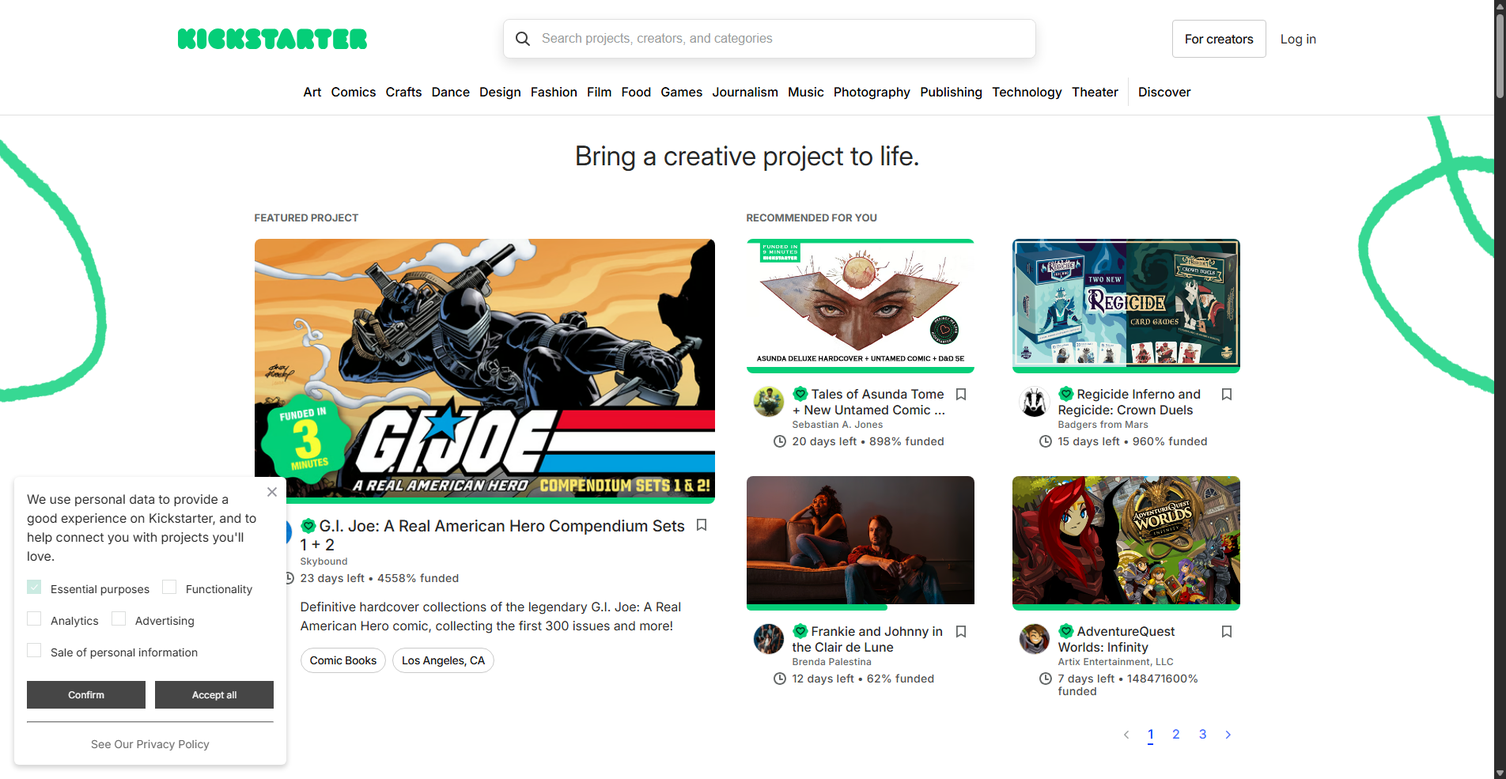button: (499, 202, 593, 244), (1172, 20, 1266, 58), (178, 180, 263, 221), (27, 681, 146, 709), (155, 681, 274, 709), (178, 234, 319, 253), (178, 202, 318, 221), (178, 256, 315, 275), (338, 256, 475, 275), (178, 141, 289, 164), (499, 234, 633, 253), (338, 180, 471, 199), (178, 180, 311, 199), (338, 207, 467, 226), (499, 207, 627, 226), (178, 288, 304, 307), (178, 288, 302, 307), (338, 234, 462, 253), (178, 141, 279, 164), (338, 234, 460, 253), (178, 234, 300, 253), (338, 234, 458, 253), (178, 141, 274, 164), (338, 261, 453, 280), (338, 207, 452, 226), (178, 180, 292, 199), (338, 207, 451, 226), (178, 234, 291, 253), (499, 180, 612, 199), (178, 261, 290, 280), (178, 207, 289, 226), (499, 207, 610, 226), (499, 180, 608, 199), (178, 141, 268, 164), (178, 207, 286, 226), (178, 234, 284, 253), (178, 234, 283, 253), (178, 180, 282, 199), (338, 315, 441, 334), (499, 261, 601, 280), (338, 180, 440, 199), (178, 261, 278, 280), (338, 288, 438, 307), (338, 261, 437, 280), (499, 180, 597, 199), (178, 176, 276, 195), (178, 207, 275, 226), (178, 315, 274, 334), (178, 207, 274, 226), (338, 180, 433, 199), (178, 207, 270, 226), (499, 288, 591, 307), (178, 180, 269, 199), (338, 261, 429, 280), (178, 180, 268, 199), (499, 234, 589, 253), (499, 261, 589, 280), (178, 288, 266, 307), (178, 180, 266, 199), (499, 180, 587, 199), (178, 207, 266, 226), (499, 207, 586, 226), (499, 180, 585, 199), (178, 207, 264, 226), (178, 261, 263, 280), (178, 229, 262, 248), (338, 207, 422, 226), (499, 180, 582, 199), (178, 141, 246, 164), (178, 180, 260, 199), (338, 315, 419, 334), (178, 141, 244, 164), (499, 288, 577, 307), (499, 261, 577, 280), (178, 261, 255, 280), (338, 180, 415, 199), (338, 288, 415, 307), (338, 207, 415, 226), (499, 207, 575, 226), (178, 229, 254, 248), (178, 261, 253, 280), (178, 207, 252, 226), (499, 234, 573, 253), (178, 141, 239, 164), (178, 234, 251, 253), (178, 180, 251, 199), (178, 141, 238, 164), (338, 261, 410, 280), (178, 234, 250, 253), (338, 234, 410, 253), (338, 288, 409, 307), (178, 180, 248, 199), (338, 207, 408, 226), (499, 234, 568, 253), (338, 342, 407, 361), (338, 202, 407, 221), (178, 141, 234, 164), (499, 180, 565, 199), (338, 207, 403, 226), (338, 180, 403, 199), (834, 84, 911, 100), (499, 234, 563, 253), (178, 141, 230, 164), (178, 234, 240, 253), (178, 288, 240, 307), (178, 315, 240, 334), (338, 207, 400, 226), (178, 180, 240, 199), (338, 207, 398, 226), (178, 180, 238, 199), (338, 180, 398, 199), (499, 261, 559, 280), (178, 207, 237, 226), (992, 84, 1062, 100), (338, 234, 396, 253), (338, 180, 396, 199), (338, 207, 396, 226), (178, 180, 236, 199), (338, 207, 395, 226), (338, 261, 395, 280), (178, 207, 235, 226), (499, 180, 556, 199), (499, 207, 555, 226), (712, 84, 778, 100), (338, 180, 393, 199), (499, 234, 554, 253), (338, 234, 392, 253), (920, 84, 982, 100), (178, 141, 221, 164), (338, 288, 390, 307), (338, 176, 390, 195), (338, 207, 389, 226), (338, 180, 388, 199), (499, 207, 548, 226), (178, 288, 226, 307), (178, 342, 226, 361), (338, 234, 386, 253), (499, 207, 547, 226), (499, 180, 547, 199), (178, 180, 225, 199), (178, 256, 225, 275), (499, 261, 546, 280), (499, 207, 546, 226), (338, 234, 384, 253), (1138, 84, 1191, 100), (499, 176, 543, 195), (178, 141, 214, 164), (178, 180, 221, 199), (178, 207, 221, 226), (338, 207, 381, 226), (499, 180, 541, 199), (338, 288, 380, 307), (338, 180, 379, 199), (499, 288, 539, 307), (338, 229, 378, 248), (499, 207, 538, 226), (531, 84, 577, 100), (1072, 84, 1118, 100), (178, 207, 216, 226), (331, 84, 376, 100), (499, 207, 536, 226), (499, 261, 536, 280), (178, 261, 214, 280), (338, 261, 374, 280), (479, 84, 521, 100), (661, 84, 703, 100), (338, 234, 373, 253), (338, 180, 373, 199), (338, 207, 373, 226), (499, 180, 532, 199), (338, 234, 371, 253), (499, 288, 532, 307), (431, 84, 470, 100), (178, 141, 204, 164), (499, 234, 530, 253), (386, 84, 422, 100), (788, 84, 824, 100), (499, 180, 528, 199), (178, 234, 204, 253), (621, 84, 651, 100), (1216, 725, 1240, 744), (1115, 725, 1138, 744), (587, 84, 612, 100), (303, 84, 321, 100), (695, 519, 708, 534), (954, 388, 967, 403), (1220, 388, 1233, 403), (954, 625, 967, 640), (1220, 625, 1233, 640), (1172, 724, 1180, 745), (1199, 724, 1207, 745), (267, 486, 277, 499), (1148, 724, 1153, 745)
checkbox: (165, 582, 176, 592), (114, 614, 125, 624), (30, 645, 40, 656), (30, 582, 40, 592), (30, 614, 40, 624)
icon: (300, 518, 316, 534), (792, 386, 808, 402), (1058, 386, 1074, 402), (792, 623, 808, 639), (1058, 623, 1074, 639), (954, 388, 967, 401), (1220, 388, 1233, 401), (954, 625, 967, 638), (1220, 625, 1233, 638), (695, 519, 708, 531)
input: (532, 20, 1035, 58)
label: (51, 643, 198, 662), (51, 580, 150, 599), (186, 580, 253, 599), (135, 611, 194, 630), (51, 611, 99, 630), (27, 611, 51, 626), (111, 611, 135, 626), (27, 580, 51, 594), (162, 580, 186, 594), (27, 643, 51, 657)
link: (254, 239, 715, 498), (746, 239, 974, 367), (1012, 239, 1240, 367), (746, 476, 974, 604), (1012, 476, 1240, 604), (300, 517, 685, 555), (1002, 199, 1317, 225), (1002, 275, 1317, 301), (1002, 174, 1317, 199), (1002, 225, 1317, 250), (1002, 250, 1317, 275), (792, 386, 945, 433), (178, 179, 329, 223), (499, 201, 650, 245), (708, 199, 944, 225), (708, 275, 944, 301), (708, 174, 944, 199), (708, 225, 944, 250), (708, 250, 944, 275), (708, 301, 944, 326), (792, 623, 943, 655), (1058, 386, 1201, 418), (829, 68, 915, 115), (178, 28, 367, 49), (987, 68, 1067, 115), (1058, 623, 1175, 655), (707, 68, 783, 115), (178, 259, 329, 282), (338, 259, 489, 282), (499, 259, 650, 282), (915, 68, 987, 115), (178, 179, 329, 201), (178, 206, 329, 228), (178, 233, 329, 255), (178, 286, 329, 308), (338, 179, 489, 201), (338, 206, 489, 228), (338, 233, 489, 255), (338, 286, 489, 308), (499, 179, 650, 201), (499, 206, 650, 228), (499, 233, 650, 255), (178, 313, 329, 335), (178, 340, 329, 362), (338, 313, 489, 335), (338, 340, 489, 362), (499, 286, 650, 308), (178, 228, 329, 250), (178, 255, 329, 277), (178, 174, 329, 196), (178, 201, 329, 223), (338, 174, 489, 196), (338, 201, 489, 223), (338, 228, 489, 250), (338, 255, 489, 277), (499, 174, 650, 196), (178, 141, 308, 164), (1133, 68, 1196, 115), (178, 141, 298, 164), (178, 141, 293, 164), (526, 68, 582, 115), (1067, 68, 1123, 115), (326, 68, 381, 115), (392, 648, 494, 673), (792, 586, 894, 611), (1058, 491, 1159, 516), (178, 141, 287, 164), (792, 554, 888, 580), (475, 68, 526, 115), (656, 68, 707, 115), (427, 68, 475, 115), (1058, 523, 1145, 548), (381, 68, 427, 115), (783, 68, 829, 115), (300, 648, 386, 673), (845, 744, 927, 770), (178, 141, 265, 164), (178, 141, 263, 164), (1058, 757, 1145, 779), (178, 141, 258, 164), (617, 68, 656, 115), (178, 141, 257, 164), (178, 141, 253, 164), (91, 737, 210, 751), (582, 68, 617, 115), (178, 141, 249, 164), (178, 141, 240, 164), (298, 68, 326, 115), (1151, 757, 1210, 779), (1058, 656, 1174, 667), (178, 141, 233, 164), (708, 357, 801, 370), (792, 744, 838, 770), (792, 418, 883, 430), (1058, 418, 1149, 430), (178, 141, 223, 164), (1018, 386, 1050, 418), (1018, 623, 1050, 655), (753, 386, 784, 418), (753, 623, 784, 655), (261, 517, 292, 548), (792, 656, 872, 667), (1280, 29, 1317, 48), (300, 555, 348, 567), (300, 518, 319, 537), (792, 386, 811, 402), (1058, 386, 1077, 402), (792, 623, 811, 639), (1058, 623, 1077, 639)
